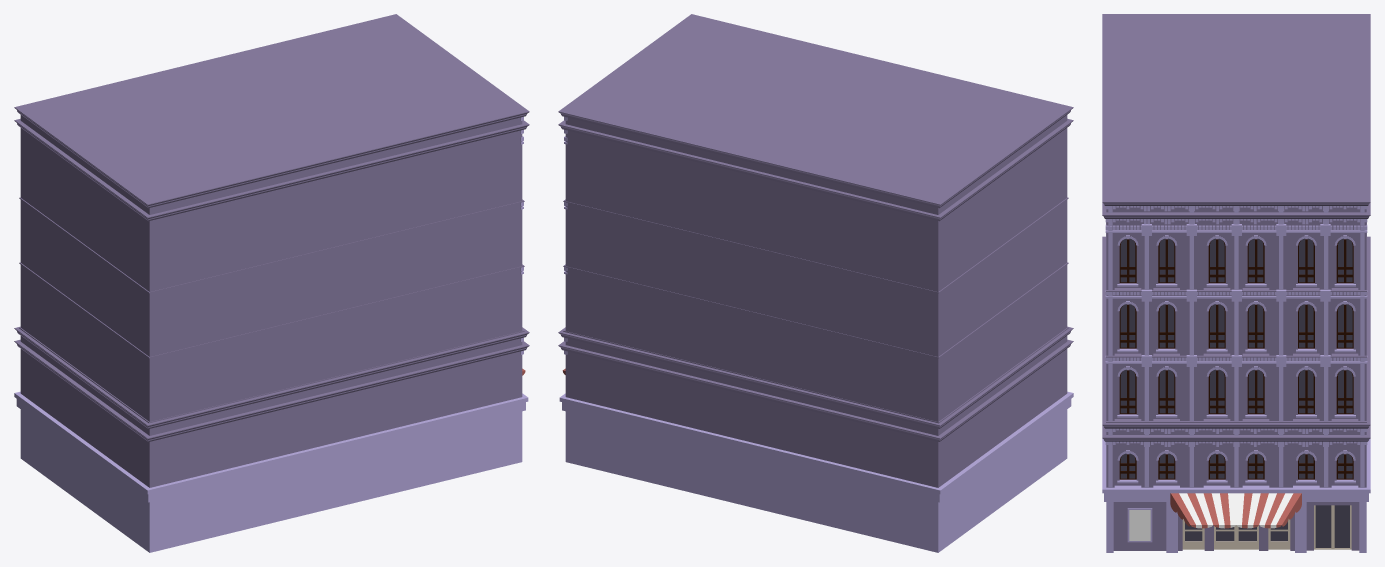
Rendered from Building12.fbx.
The picture shows the model from 3 angles, left to right: view 1: azimuth 30°, elevation 25°; view 2: azimuth 150°, elevation 25°; view 3: azimuth 270°, elevation 25°; orthographic projection.
Visible parts, largest first — view 1: Plane.085, Plane.083, Plane.076, Plane.079, Plane.078, Plane.080; view 2: Plane.085, Plane.083, Plane.076, Plane.079, Plane.078, Plane.080; view 3: Plane.085, Plane.080, Plane.076, Plane.083, Plane.078, Plane.079.
Boxes of the visible parts, x1,y1,x2,y2 form: Plane.085: (14,14,529,227); Plane.083: (19,134,524,293); Plane.076: (14,368,528,552); Plane.079: (19,200,524,358); Plane.078: (19,265,524,423); Plane.080: (14,326,529,487); Plane.085: (558,14,1073,227); Plane.083: (563,134,1068,293); Plane.076: (559,368,1073,552); Plane.079: (563,200,1068,358); Plane.078: (563,265,1068,423); Plane.080: (558,326,1073,487); Plane.085: (1102,14,1370,225); Plane.080: (1102,236,1370,487); Plane.076: (1102,438,1370,552); Plane.083: (1105,222,1367,291); Plane.078: (1105,355,1367,422); Plane.079: (1105,289,1367,357).
Bounding box in the file's own units: 3397 × 2700 × 1858.
